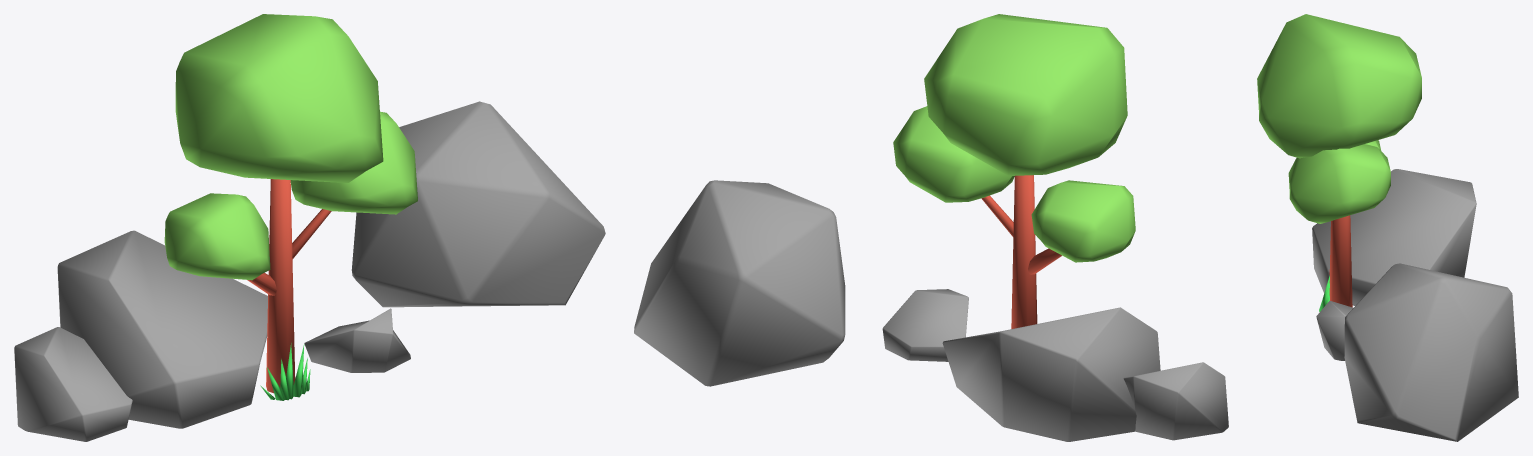
Rendered from derevo2.fbx.
3 renders of one model, left to right at view 1: azimuth 30°, elevation 25°; view 2: azimuth 150°, elevation 25°; view 3: azimuth 270°, elevation 25°, orthographic. The views are drawn at different scales.
Visible parts, largest first — view 1: kamen2, krona.002, stvol.002, Cone.007; view 2: kamen2, krona.002, stvol.002; view 3: kamen2, krona.002, stvol.002.
Part boxes in pixels (box(x1,y1,x2,y2)): kamen2: box(14, 101, 605, 441); krona.002: box(164, 14, 417, 280); stvol.002: box(247, 179, 331, 393); Cone.007: box(260, 343, 310, 400); kamen2: box(634, 180, 1228, 441); krona.002: box(893, 14, 1135, 262); stvol.002: box(981, 175, 1061, 328); kamen2: box(1312, 169, 1518, 441); krona.002: box(1257, 14, 1421, 223); stvol.002: box(1329, 215, 1352, 307).
Size of the model in its own units: 521 by 300 by 252.
